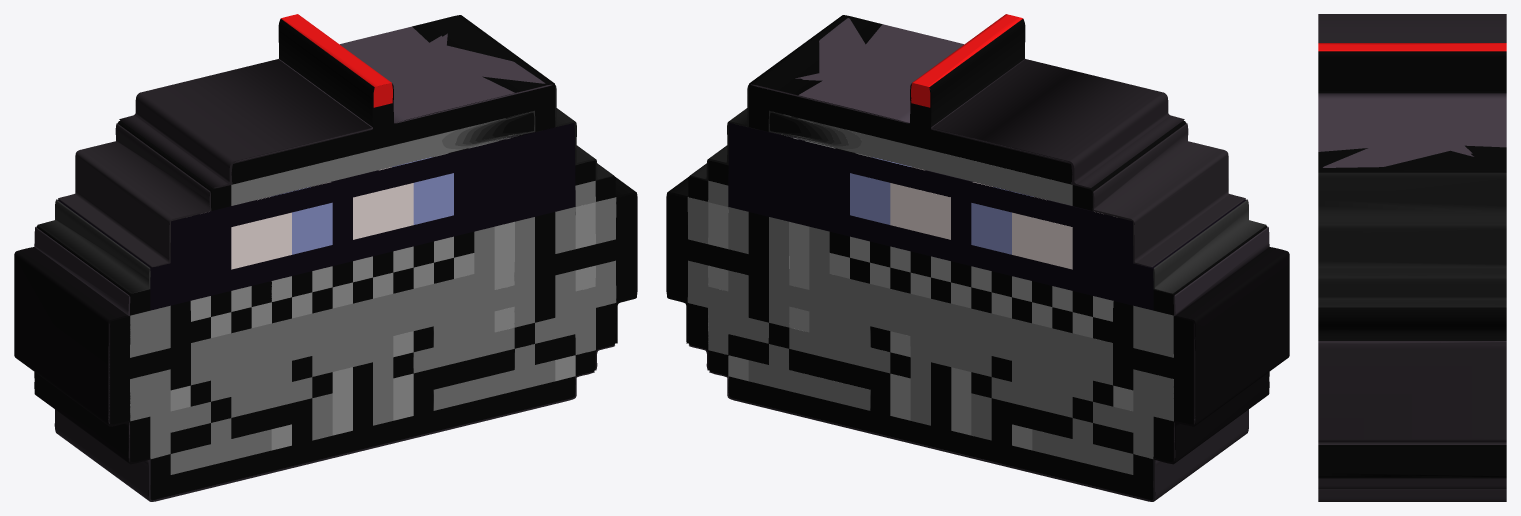
Rendered from Toadz_2227.glb.
The picture shows the model from 3 angles, left to right: view 1: azimuth 30°, elevation 25°; view 2: azimuth 150°, elevation 25°; view 3: azimuth 270°, elevation 25°; orthographic projection.
Parts seen in each view (by area): view 1: Curve; view 2: Curve; view 3: Curve.
Part boxes in pixels (x1,y1,x2,y2): Curve: (14, 14, 637, 501); Curve: (666, 14, 1289, 501); Curve: (1318, 14, 1506, 501).
Bounding box in the file's own units: 3.25 × 2.12 × 1.
